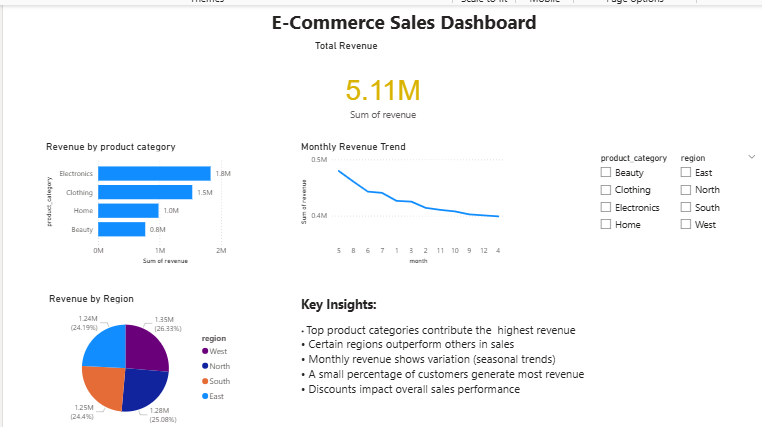

What the dashboard file says about the page in this screenshot:
{"tool":"powerbi","page":{"name":"Page 1","canvas":[1280,720],"ordinal":0},"visuals":[{"type":"card","title":"Total Revenue ","fields":{"Values":["Sum(raw_data.revenue)"]},"box":[520.4,57.3,239.2,170.1],"z":0},{"type":"clusteredBarChart","title":"Revenue by product category","fields":{"Category":["raw_data.product_category"],"Y":["Sum(raw_data.revenue)"]},"box":[67.4,227.4,333.5,213.9],"z":1},{"type":"lineChart","title":"Monthly Revenue Trend","fields":{"Category":["raw_data.month"],"Y":["Sum(raw_data.revenue)"]},"box":[496.8,227.4,352,213.9],"z":2},{"type":"pieChart","title":" Revenue by Region","fields":{"Category":["raw_data.region"],"Y":["Sum(raw_data.revenue)"]},"box":[72.4,483.4,328.4,237.5],"z":3},{"type":"slicer","fields":{"Values":["raw_data.product_category"]},"box":[993.7,244.2,197.1,220.6],"z":4},{"type":"slicer","fields":{"Values":["raw_data.region"]},"box":[1128.4,244.2,151.6,218.9],"z":5},{"type":"textbox","box":[496.8,483.4,762.9,237.5],"z":6},{"type":"textbox","box":[354,0,565.1,57.9],"z":7}]}

Visuals, with their boxes on the page's 1280x720 design canvas (x1, y1, x2, y2). These are canvas units, not pixel positions in the 762x427 screenshot, which may show the page scaled, cropped or inside an application window:
"Total Revenue " card: (left=520, top=57, right=760, bottom=227)
"Revenue by product category" clusteredBarChart: (left=67, top=227, right=401, bottom=441)
"Monthly Revenue Trend" lineChart: (left=497, top=227, right=849, bottom=441)
" Revenue by Region" pieChart: (left=72, top=483, right=401, bottom=721)
slicer - raw_data.product_category: (left=994, top=244, right=1191, bottom=465)
slicer - raw_data.region: (left=1128, top=244, right=1280, bottom=463)
textbox: (left=497, top=483, right=1260, bottom=721)
textbox: (left=354, top=0, right=919, bottom=58)
